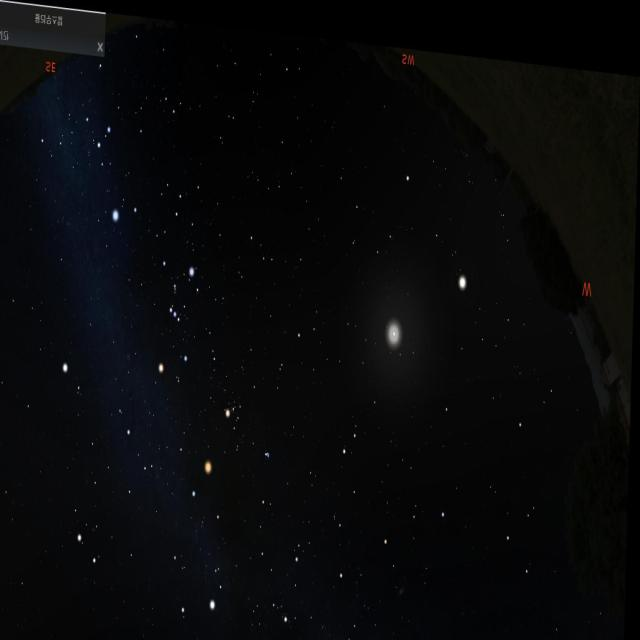canis_major: (96, 105, 139, 227)
canis_minor: (57, 341, 95, 406)
gemini: (76, 402, 170, 576)
moon: (378, 294, 415, 350)
orion: (154, 238, 203, 374)
pleiades: (262, 436, 278, 458)
taurus: (216, 366, 282, 469)
